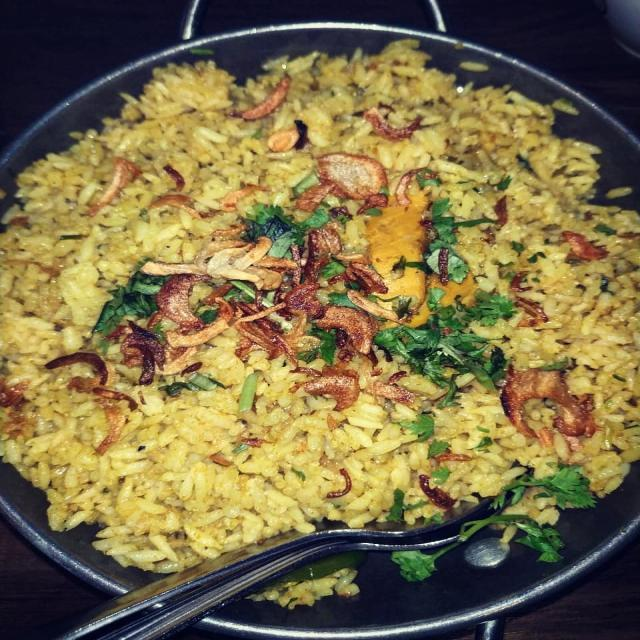biryani: (2, 60, 640, 568)
